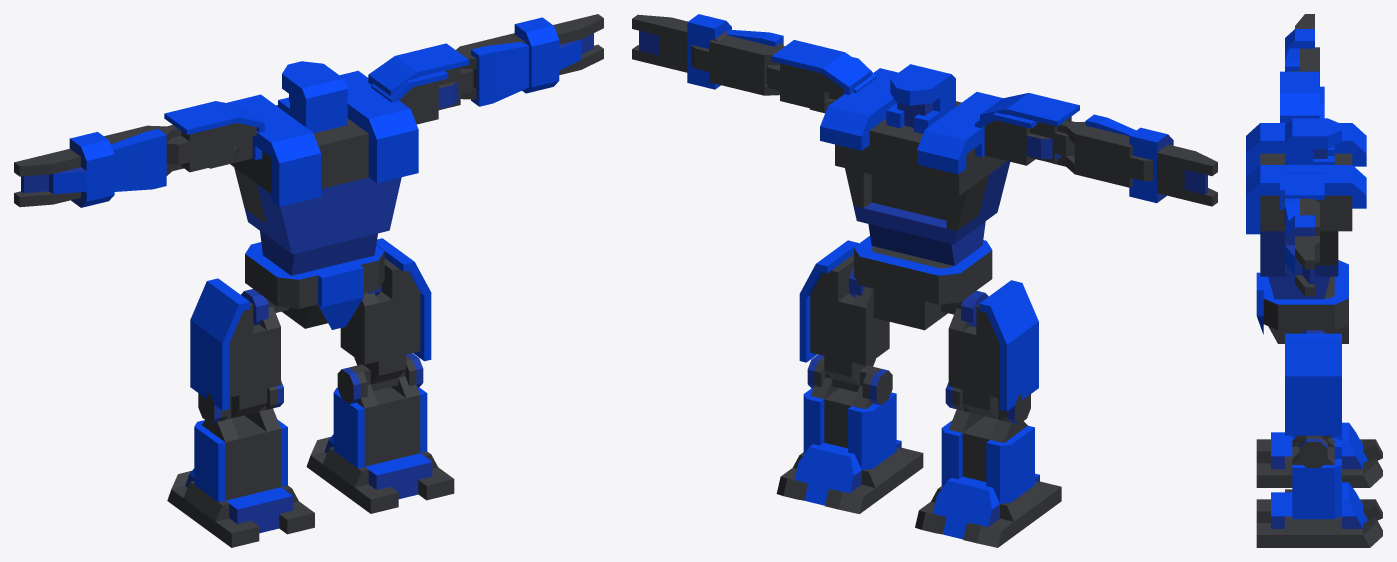
The model's file is PLAYER.glb.
3 renders of one model, left to right at view 1: azimuth 30°, elevation 25°; view 2: azimuth 150°, elevation 25°; view 3: azimuth 270°, elevation 25°, orthographic. The views are drawn at different scales.
Parts seen in each view (by area): view 1: mergedBlocks(Clone); view 2: mergedBlocks(Clone); view 3: mergedBlocks(Clone).
Boxes of the visible parts, left/top/right/bottom form: mergedBlocks(Clone): left=14, top=14, right=603, bottom=547; mergedBlocks(Clone): left=632, top=14, right=1217, bottom=547; mergedBlocks(Clone): left=1246, top=14, right=1382, bottom=547.
Bounding box in the file's own units: 4.2 × 2.9 × 0.9644.
